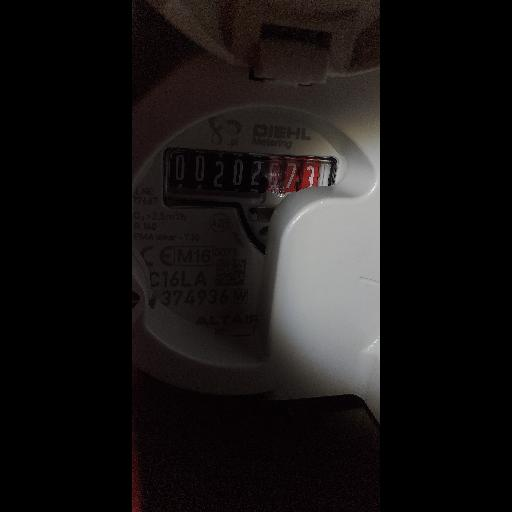0: (190, 150, 211, 190), (228, 153, 249, 193), (172, 149, 191, 189)
2: (210, 152, 229, 191), (248, 154, 267, 193)
3: (302, 159, 322, 192)
6: (266, 156, 282, 194)
7: (283, 157, 302, 196)
border_water_meter_number: (164, 148, 339, 211)
